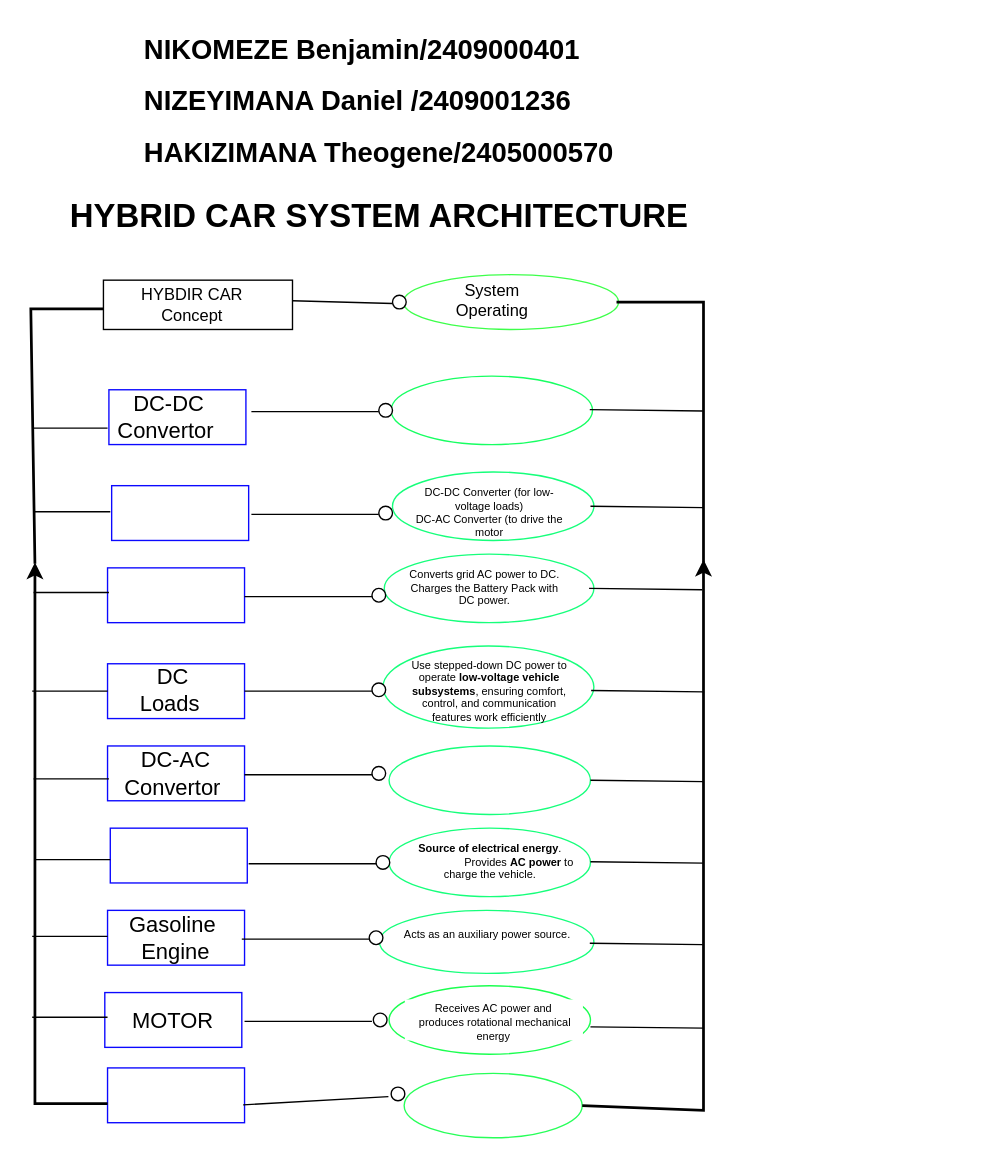
The diagram is 985 pixels wide and 1162 high, and some of its shapes have lost their labels. Each missing label, with the box of its shape:
AC-DC Convertor: (106, 566, 245, 623)
Battery Pack: (110, 484, 249, 540)
Converts battery DC power to AC power. Feeds the Electric Motor.: (388, 745, 590, 814)
GRID: (109, 827, 247, 883)
Mech Traction: (106, 1067, 245, 1123)
Steps down the battery voltage to supply low-voltage DC loads: (390, 375, 593, 445)
The mechanical output from the motor drives the vehicle wheels: (403, 1072, 582, 1138)
